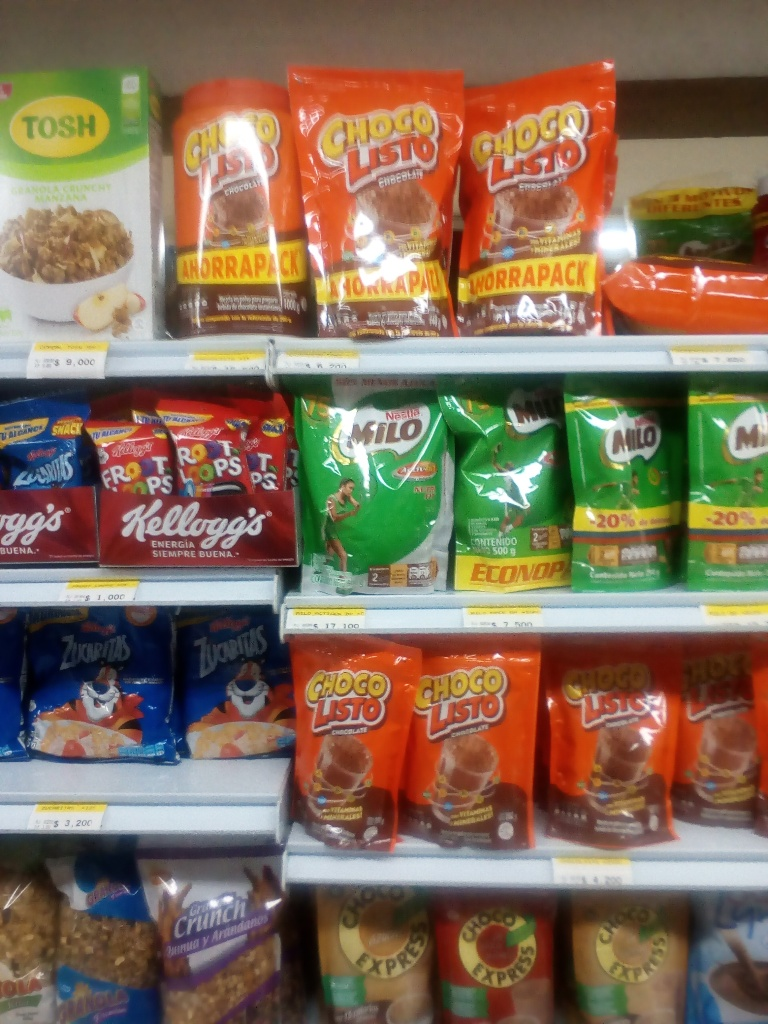COL0170103DYP44000: (286, 64, 464, 339)
COL0170103TRR00100: (154, 79, 298, 335)
COL0170203DYP50000: (433, 372, 576, 593)
COL0170205DYP50000: (287, 376, 450, 596)
